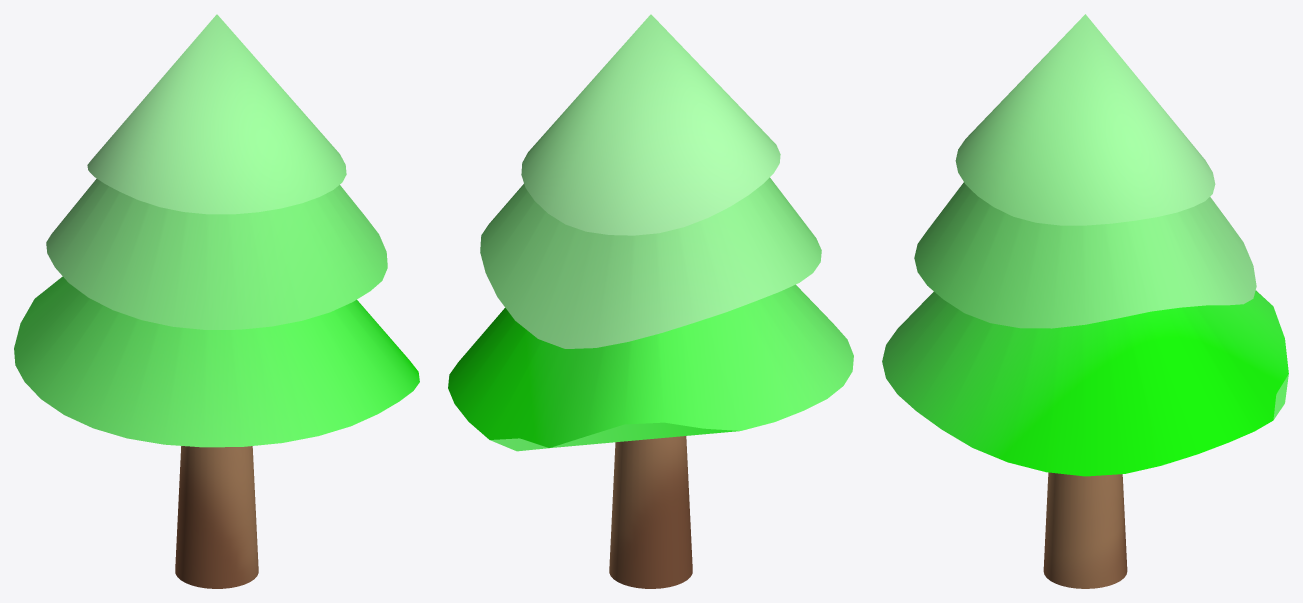
Rendered from tree_001.fbx.
3 views of the same model, side by side, from view 1: azimuth 30°, elevation 25°; view 2: azimuth 150°, elevation 25°; view 3: azimuth 270°, elevation 25° (orthographic).
Visible parts, largest first — view 1: Cylinder.011; view 2: Cylinder.011; view 3: Cylinder.011.
Part boxes in pixels (x1,y1,x2,y2): Cylinder.011: (14, 14, 419, 588); Cylinder.011: (448, 14, 853, 588); Cylinder.011: (882, 14, 1288, 588).
Bounding box in the file's own units: 193 × 291 × 193.
Materials: 2 (2 with a texture image).
